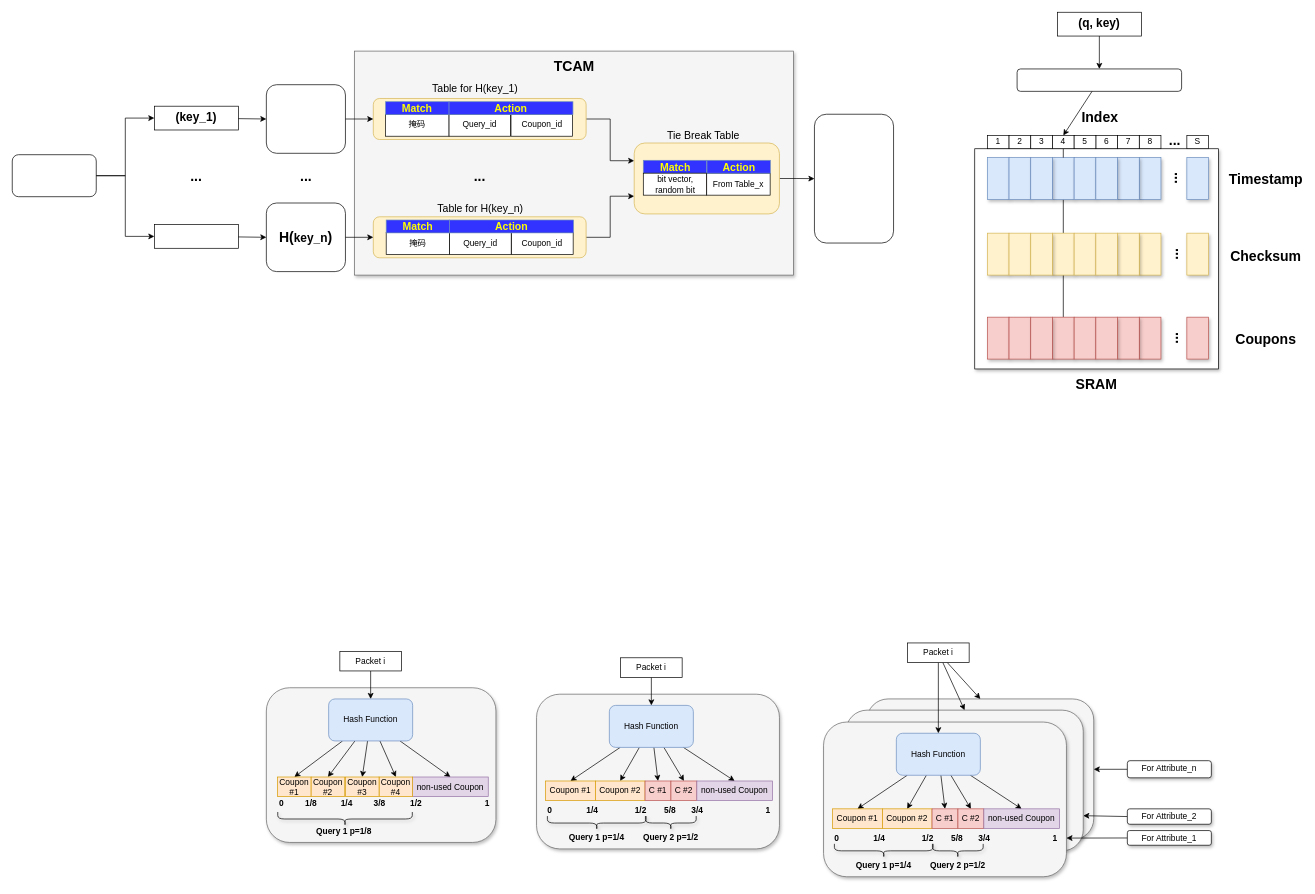
The diagram is 1315 pixels wide and 894 high, and some of its shapes have lost their labels. Here are the shapes that lost their labels. From the top down, the centre of each, then its label:
At [1099,79]: "H(q, key)".
At [305,118]: "H( key_1 )".
At [54,175]: "Packet".
At [854,178]: "Run which Query".
At [196,236]: "(key_n)".
